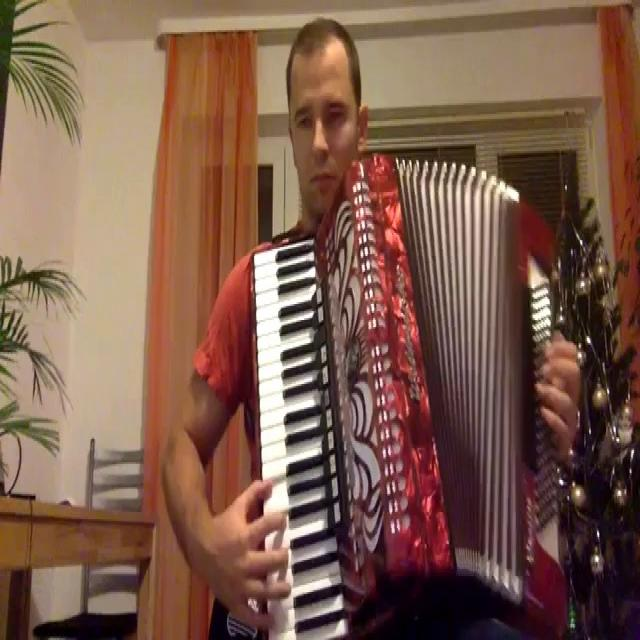Clarinet: (244, 158, 576, 630)
